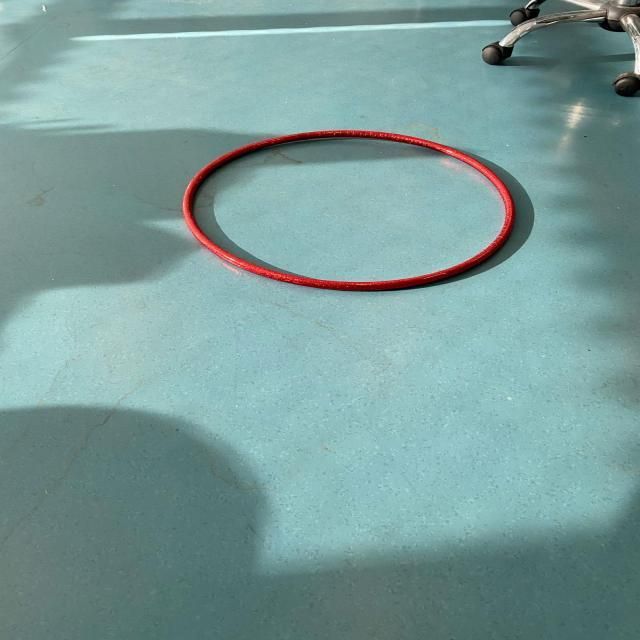Circle: (174, 124, 520, 295)
